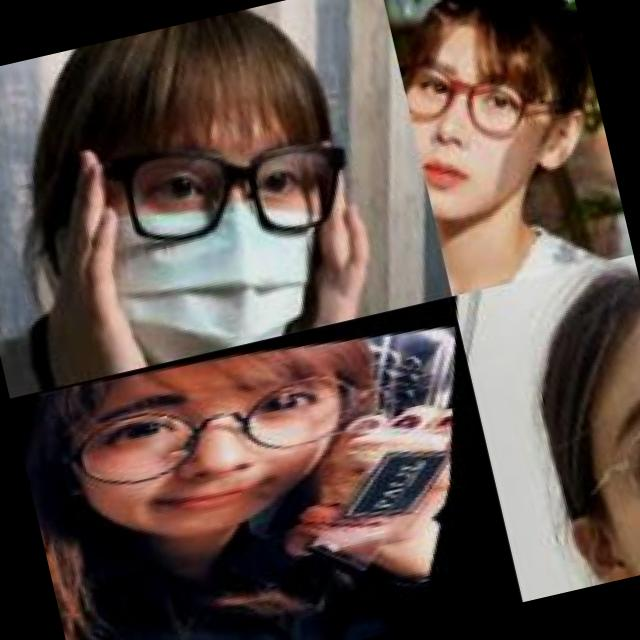glasses: (77, 90, 374, 286), (38, 346, 380, 516), (395, 10, 587, 164), (537, 332, 640, 574)
